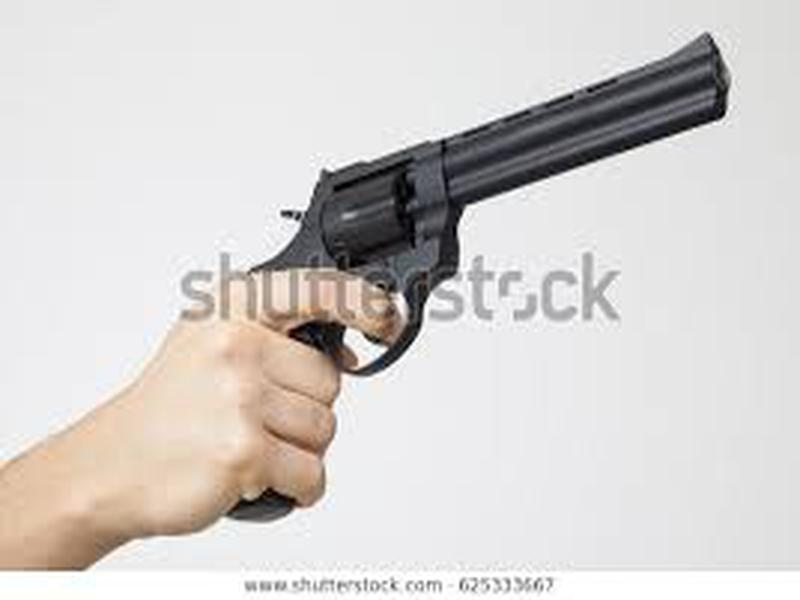gun: (75, 28, 744, 567)
